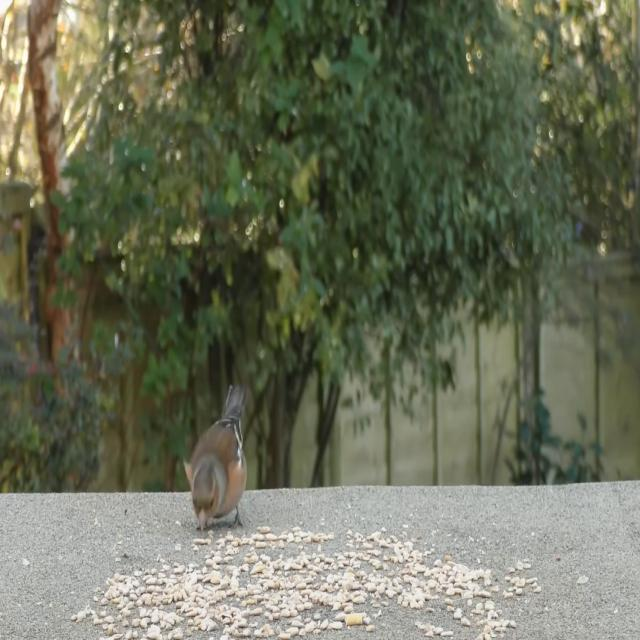beak: (195, 506, 208, 531)
bird: (178, 387, 252, 538)
